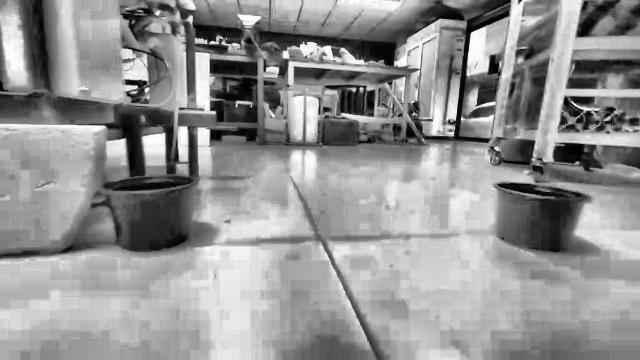pot: (102, 174, 197, 251), (494, 182, 590, 252)
